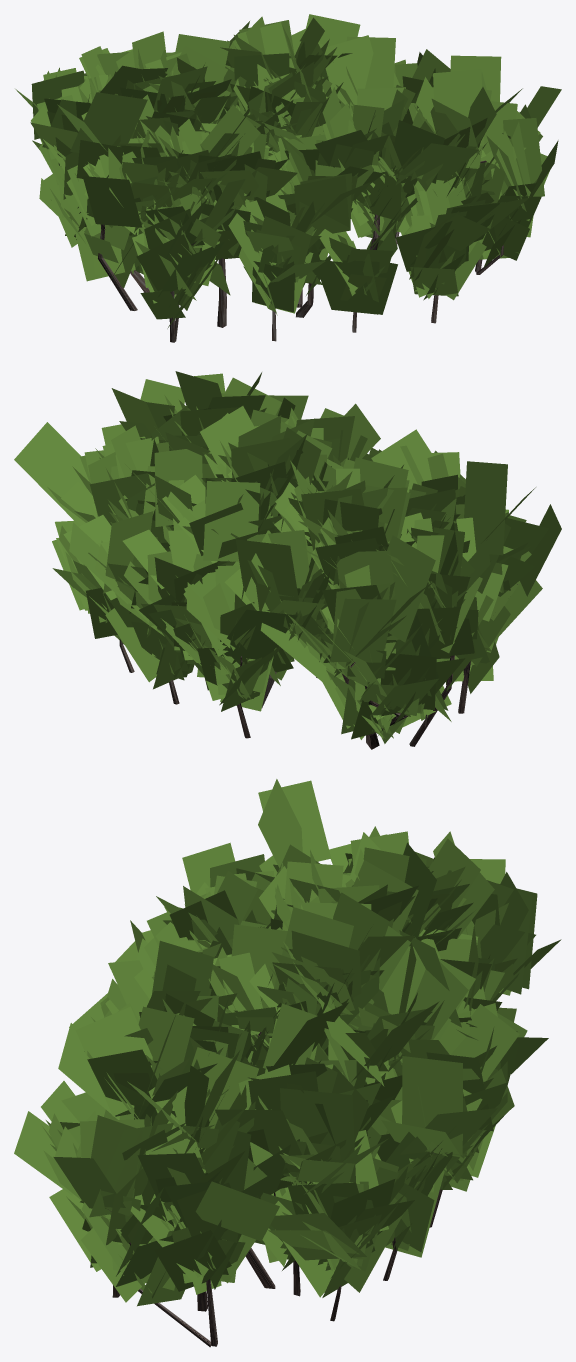
Rendered from shrub.fbx.
3 views of the same model, one above another, from view 1: azimuth 30°, elevation 25°; view 2: azimuth 150°, elevation 25°; view 3: azimuth 270°, elevation 25° (orthographic). The views are drawn at different scales.
Parts seen in each view (by area): view 1: 3D学院 模型无限; view 2: 3D学院 模型无限; view 3: 3D学院 模型无限.
Boxes of the visible parts, x1,y1,x2,y2 form: 3D学院 模型无限: [15, 14, 561, 342]; 3D学院 模型无限: [14, 371, 561, 749]; 3D学院 模型无限: [14, 779, 561, 1347].
Bounding box in the file's own units: 4.23 × 2.18 × 3.16.
